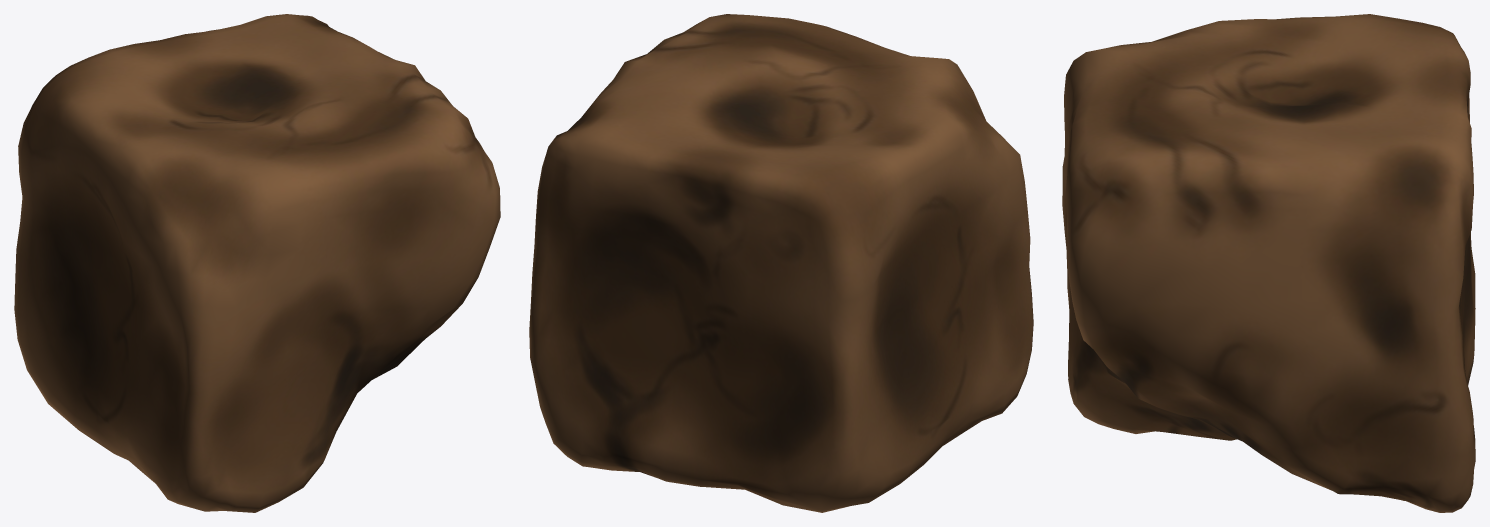
Rendered from player01.FBX.
3 views of the same model, side by side, from view 1: azimuth 30°, elevation 25°; view 2: azimuth 150°, elevation 25°; view 3: azimuth 270°, elevation 25° (orthographic). The views are drawn at different scales.
Parts seen in each view (by area): view 1: PlayerOne_lowPoly; view 2: PlayerOne_lowPoly; view 3: PlayerOne_lowPoly.
Boxes of the visible parts, x1=… form: PlayerOne_lowPoly: x1=14, y1=14, x2=500, y2=512; PlayerOne_lowPoly: x1=529, y1=14, x2=1033, y2=512; PlayerOne_lowPoly: x1=1062, y1=14, x2=1475, y2=512.
Bounding box in the file's own units: 1.06 × 1.04 × 1.05.
